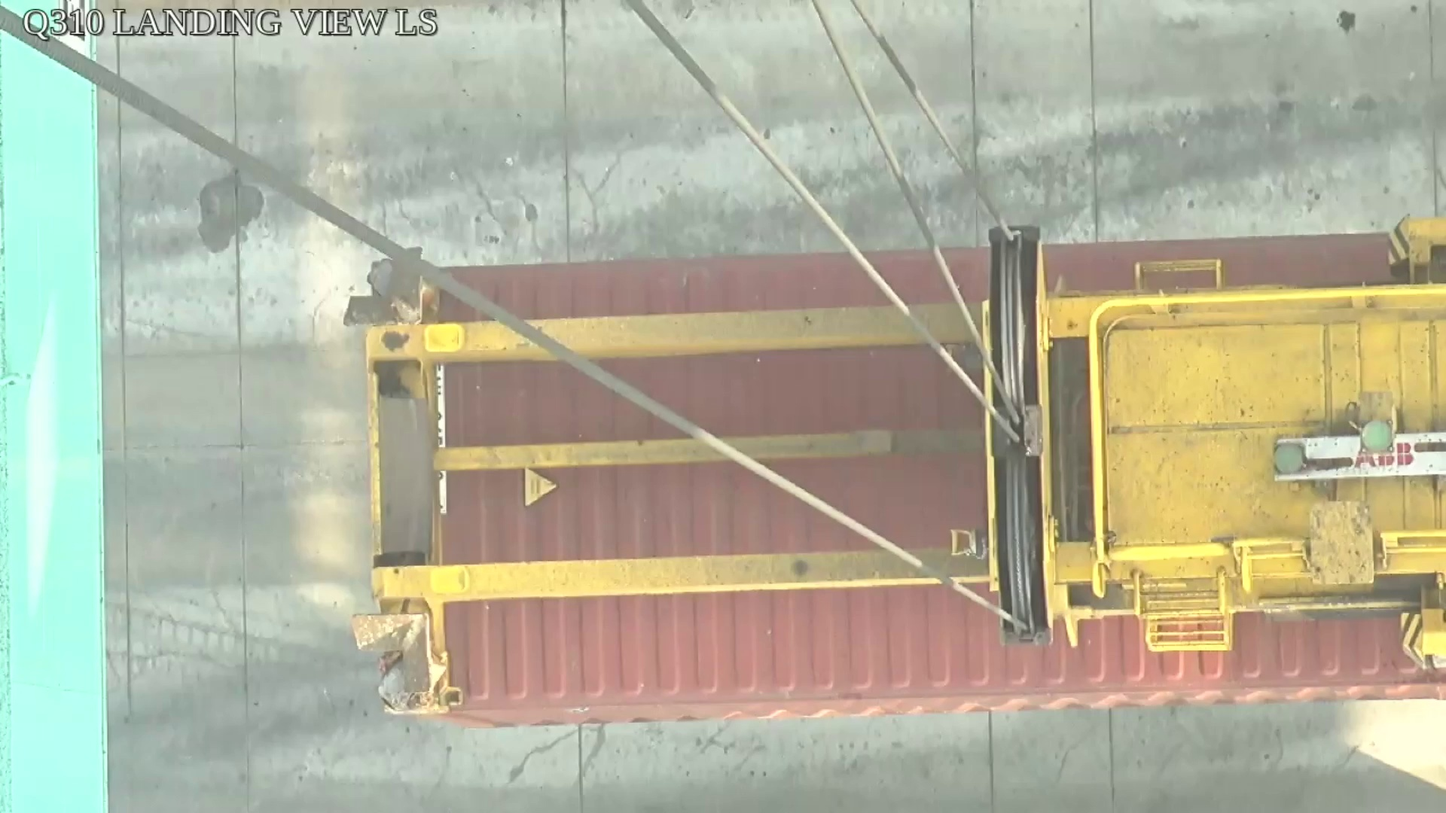aa: (979, 226, 1063, 647)
